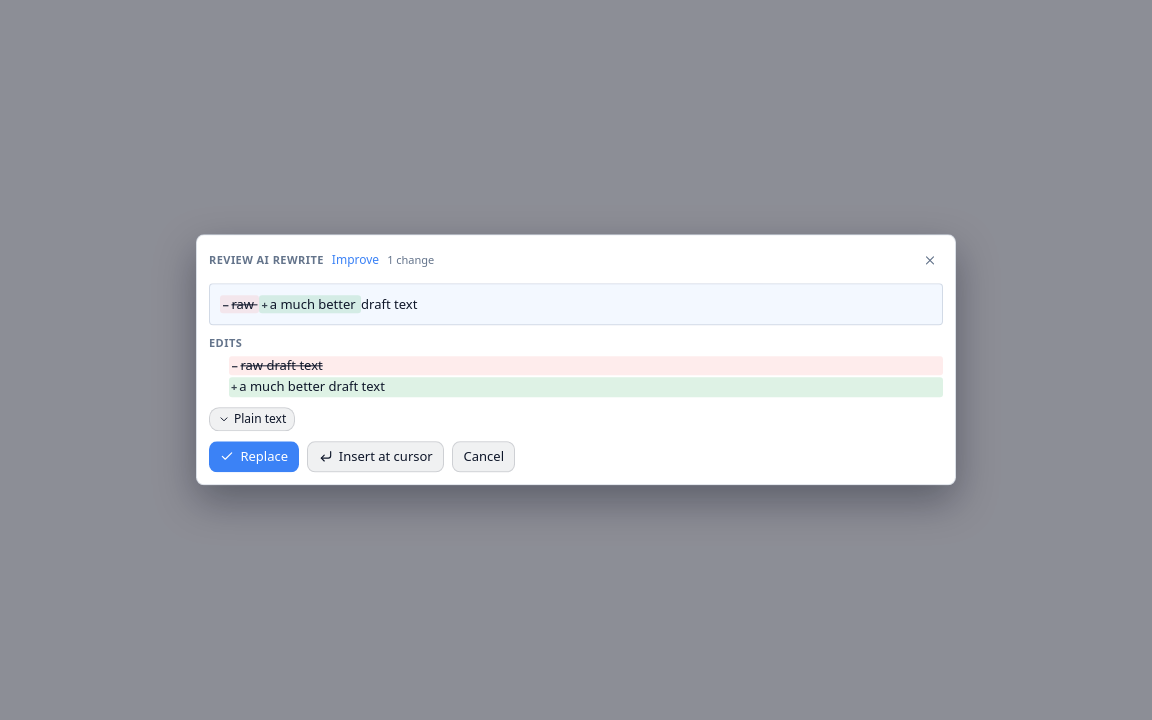
Test: QuickActionDiff › inline edit markup (§3.3.B4.f5) › keeps the plain copies folded away until asked for
Click the button with test id "quick-action-diff-plain-toggle" at (252,419), box [209,407,295,431]
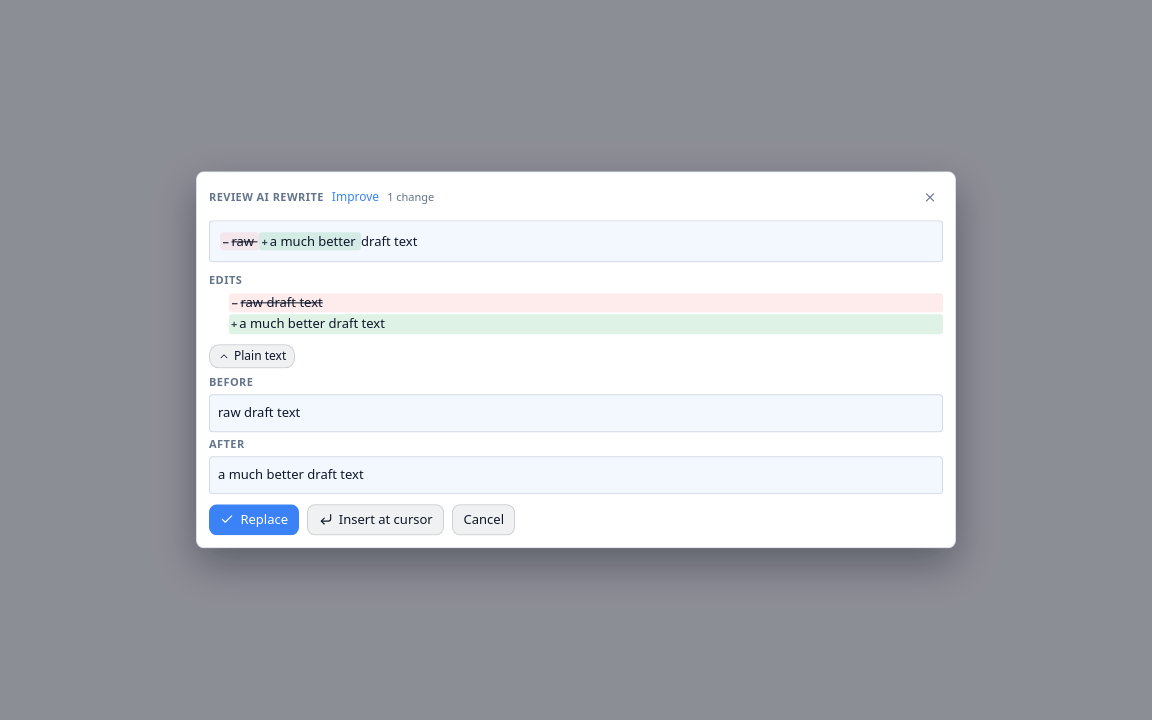
Check: the text "raw draft text" is shown, box [209,394,943,432]
